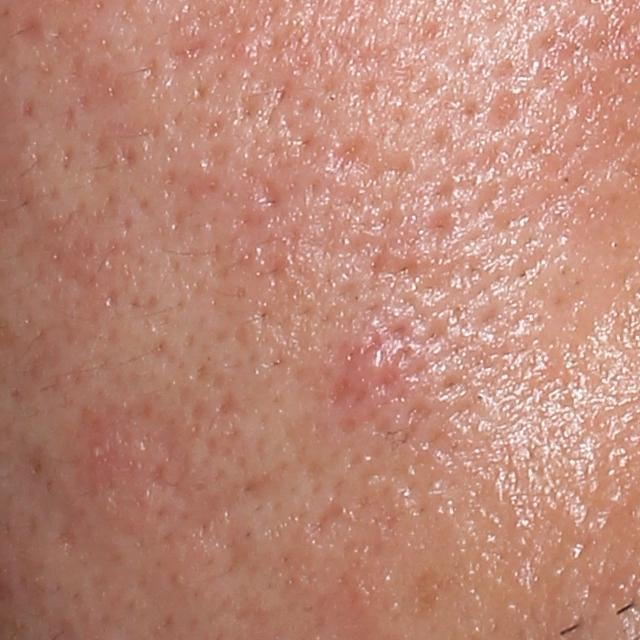atrophic_scar: (200, 524, 256, 572), (322, 134, 371, 175), (484, 88, 522, 132), (250, 167, 287, 212), (307, 496, 344, 540), (424, 205, 458, 251), (169, 38, 214, 68), (19, 11, 49, 46)
